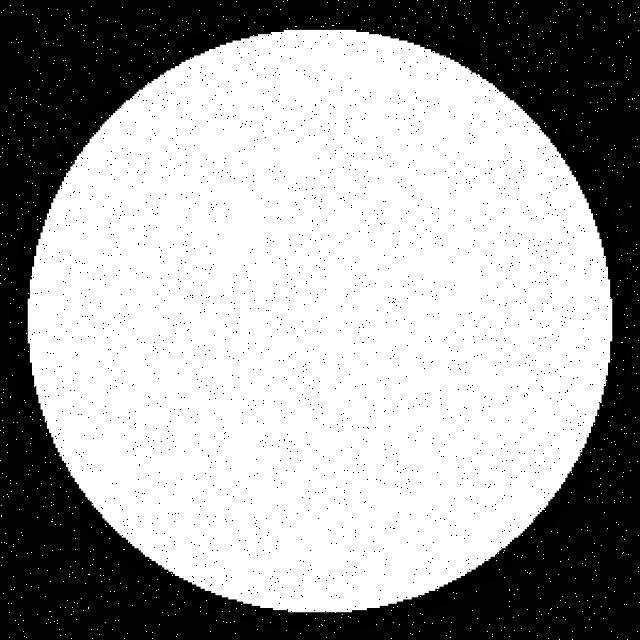Circle: (15, 15, 625, 626)
